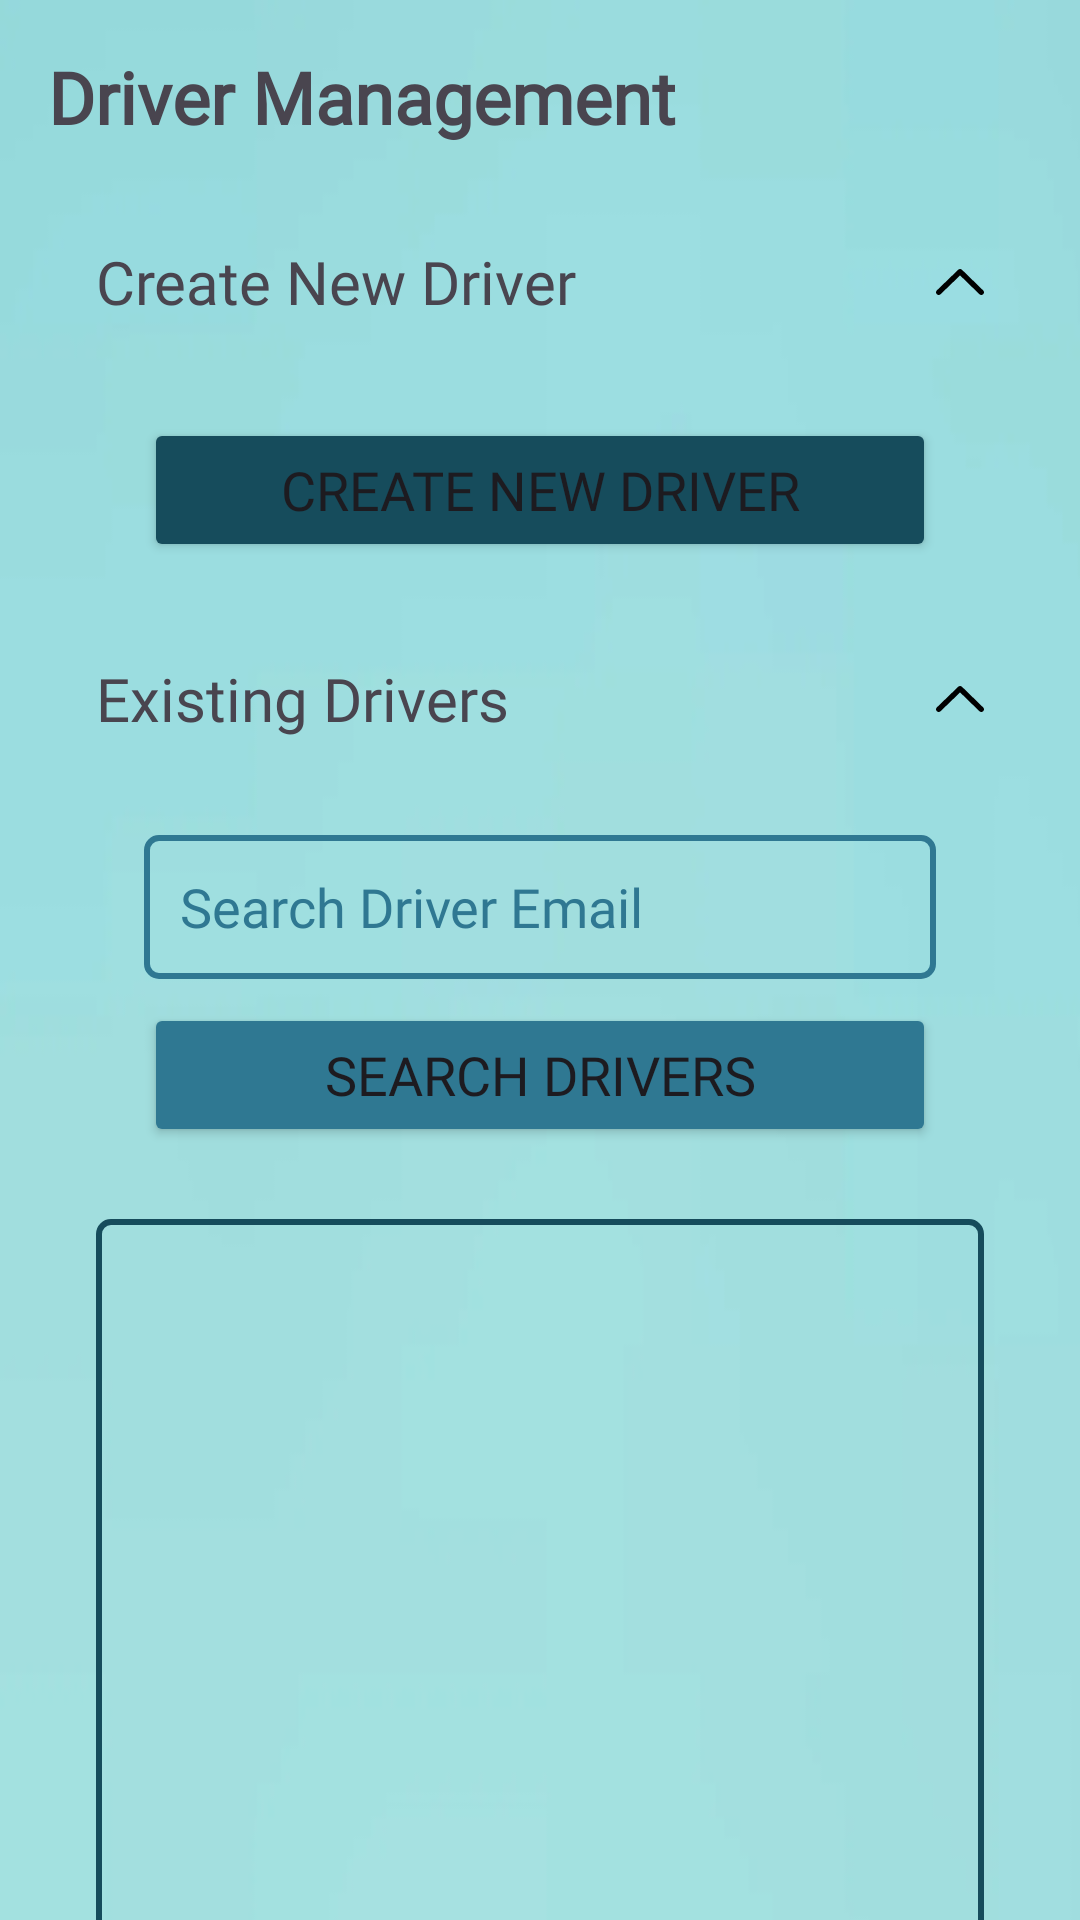

Point at icon controls on the screen. Image size 1080w x 1920h, points as [x,y].
arrow up: [960,282], [960,699]
